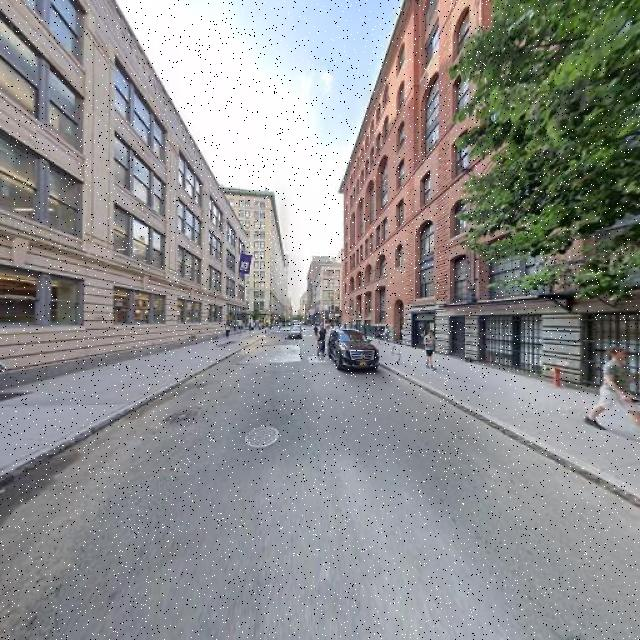Building: (345, 1, 640, 409), (1, 1, 245, 390)
